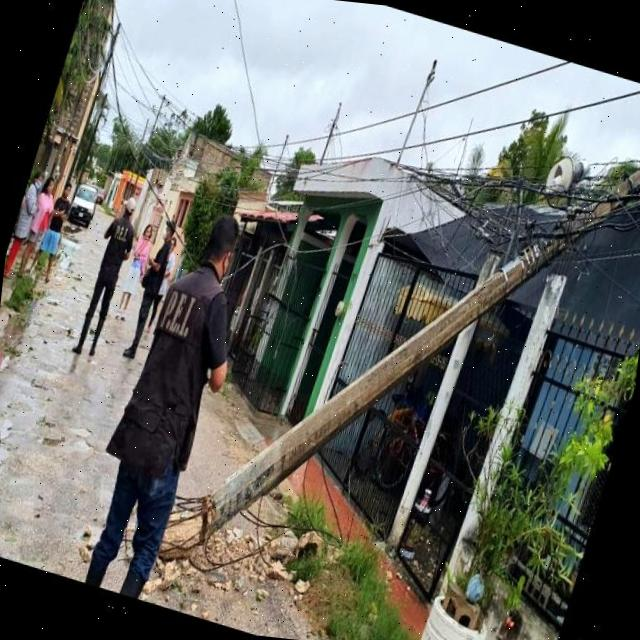Broken Pole: (154, 166, 640, 567)
